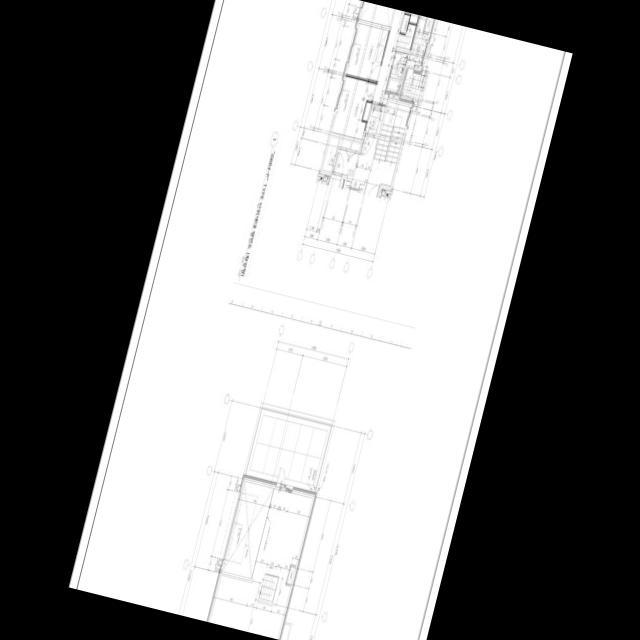background: (68, 0, 572, 640)
space_balconi: (249, 415, 326, 485), (406, 19, 427, 68), (400, 68, 427, 105)
space_bedroom: (331, 76, 375, 139), (345, 23, 388, 81)
space_front: (364, 103, 384, 135), (362, 102, 371, 120)
space_living_room: (359, 1, 404, 104), (399, 14, 409, 33)
space_other: (251, 488, 312, 585), (209, 575, 290, 639), (221, 481, 273, 578), (354, 135, 376, 180), (286, 566, 294, 584), (424, 17, 431, 32), (388, 93, 398, 100)
space_staircase: (368, 102, 409, 186), (258, 574, 278, 602), (395, 24, 415, 50)
space_toilet: (386, 51, 408, 93)
